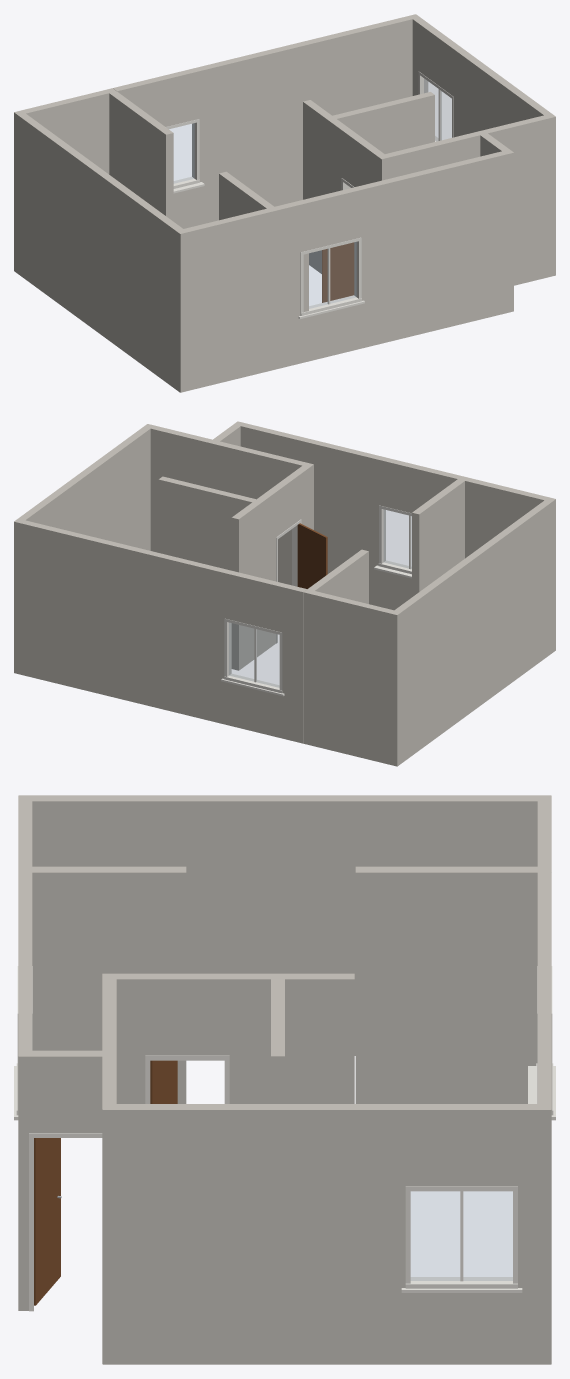
The model's file is untitled-plan_s.glb.
3 views of the same model, one above another, from view 1: azimuth 30°, elevation 25°; view 2: azimuth 150°, elevation 25°; view 3: azimuth 270°, elevation 25° (orthographic). The views are drawn at different scales.
Parts seen in each view (by area): view 1: Ground Floor; view 2: Ground Floor; view 3: Ground Floor.
Boxes of the visible parts, box(x1,y1,x2,y2) form: Ground Floor: box(14, 14, 555, 392); Ground Floor: box(14, 421, 555, 766); Ground Floor: box(14, 795, 555, 1364).
Size of the model in its own units: 8.12 by 3.05 by 5.88.
